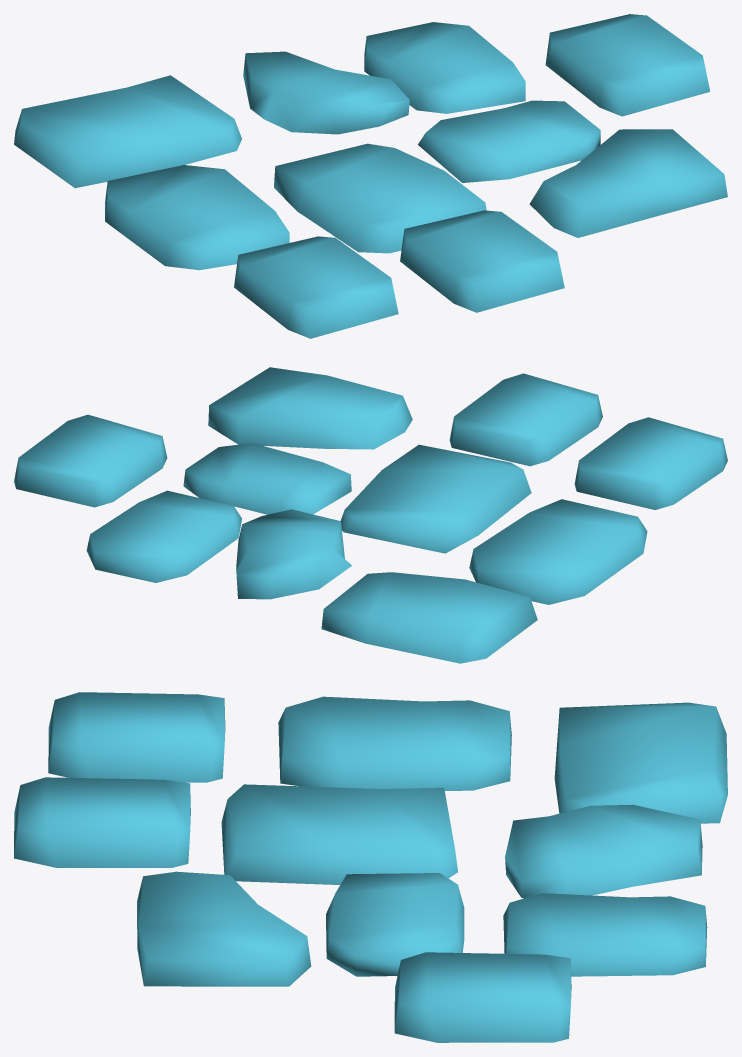
The model's file is brick_group_002.FBX.
The picture shows the model from 3 angles, top to bottom: view 1: azimuth 30°, elevation 25°; view 2: azimuth 150°, elevation 25°; view 3: azimuth 270°, elevation 25°; orthographic projection. The views are drawn at different scales.
Visible parts, largest first — view 1: brick_group_002; view 2: brick_group_002; view 3: brick_group_002.
Part boxes in pixels (box(x1,y1,x2,y2)): brick_group_002: box(14, 14, 727, 338); brick_group_002: box(14, 367, 727, 663); brick_group_002: box(14, 692, 727, 1042).
Bounding box in the file's own units: 84.01 × 5.54 × 76.43.
